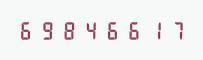eight: (59, 20, 79, 40)
four: (80, 20, 100, 40)
nine: (38, 20, 58, 40)
one: (143, 20, 163, 40)
seven: (164, 20, 184, 40)
six: (17, 20, 37, 40), (101, 20, 121, 40), (122, 20, 142, 40)
